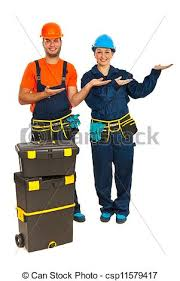Person_wearing_helmet: (36, 22, 65, 44), (90, 32, 116, 54)
